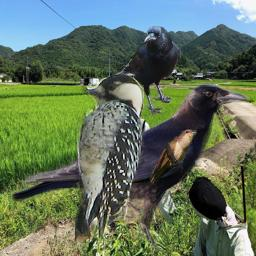Crow: (8, 82, 250, 256), (110, 22, 181, 118)
Cuckoo: (148, 129, 197, 187)
Woodpecker: (75, 73, 144, 243)
